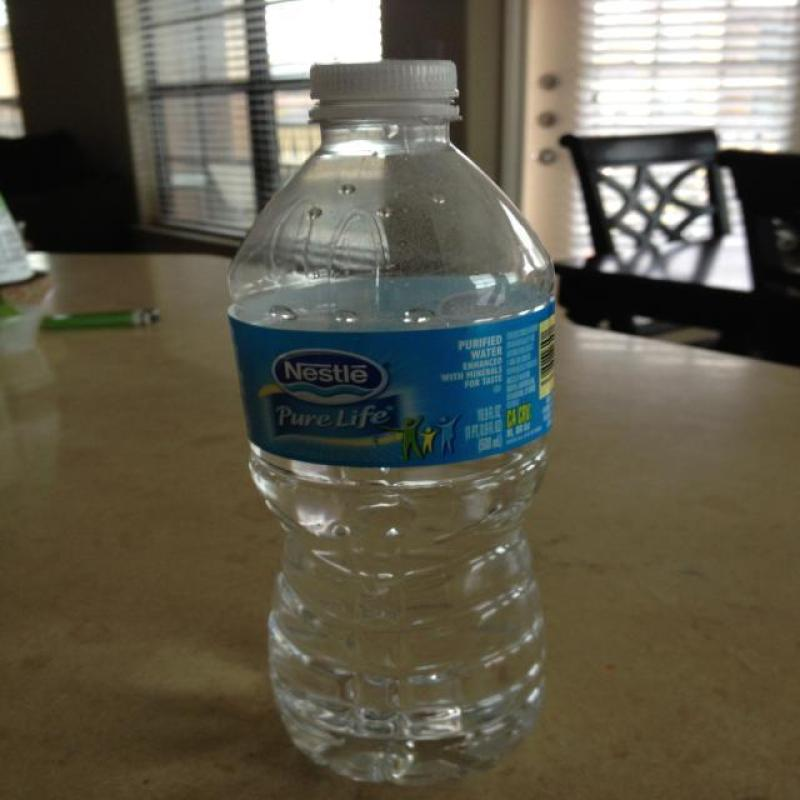botella: (220, 61, 560, 787)
